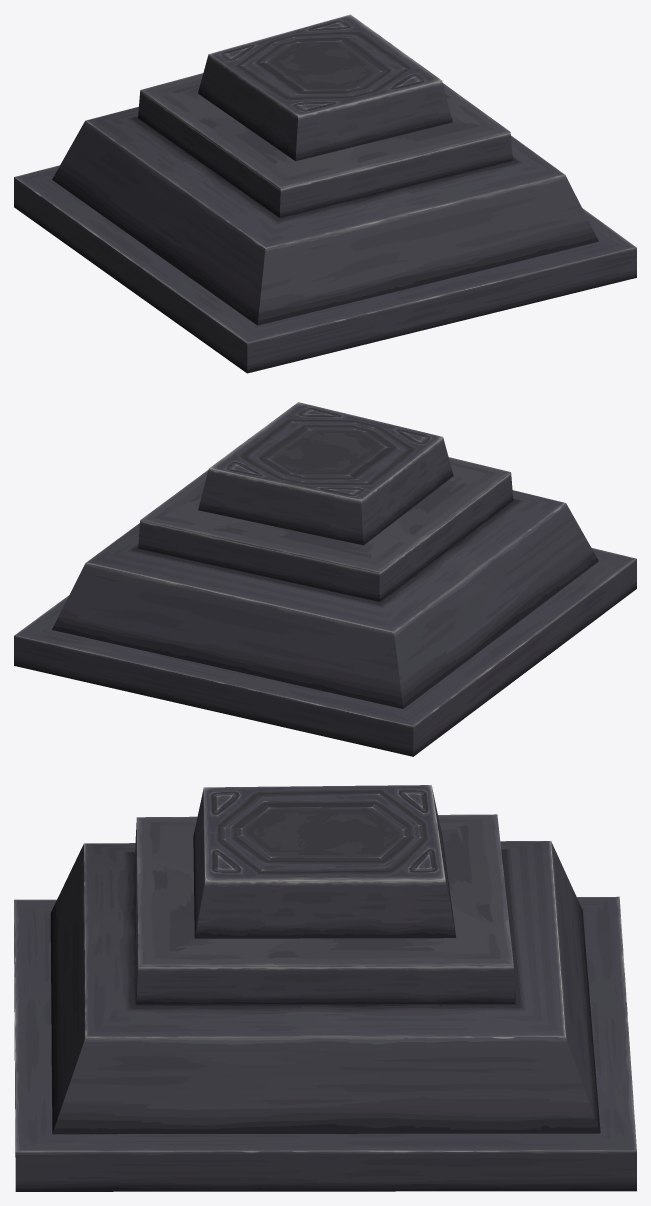
File: SM_PROP_gravestone_base_dungeon_01.fbx
3 renders of one model, top to bottom at view 1: azimuth 30°, elevation 25°; view 2: azimuth 150°, elevation 25°; view 3: azimuth 270°, elevation 25°, orthographic. The views are drawn at different scales.
Parts seen in each view (by area): view 1: SM_PROP_gravestone_base_dungeon_01; view 2: SM_PROP_gravestone_base_dungeon_01; view 3: SM_PROP_gravestone_base_dungeon_01.
Boxes of the visible parts, left/top/right/bottom form: SM_PROP_gravestone_base_dungeon_01: left=14, top=14, right=636, bottom=373; SM_PROP_gravestone_base_dungeon_01: left=14, top=402, right=636, bottom=756; SM_PROP_gravestone_base_dungeon_01: left=14, top=785, right=636, bottom=1191.
Size of the model in its own units: 89.89 by 38.03 by 92.73.
